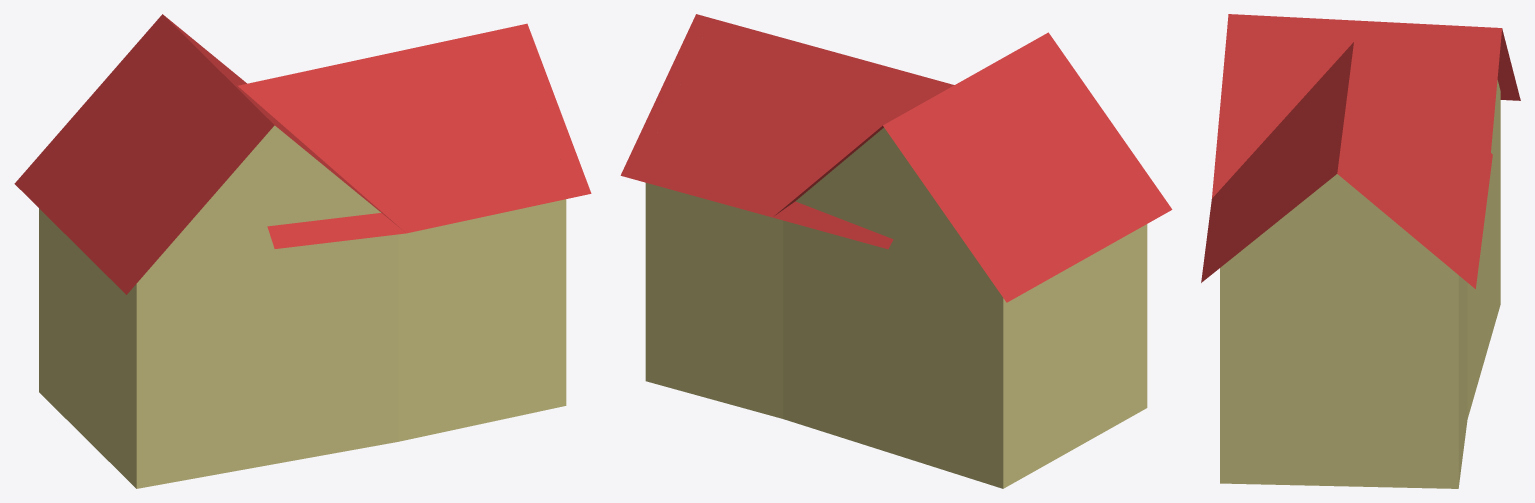
3 views of the same model, side by side, from view 1: azimuth 30°, elevation 25°; view 2: azimuth 150°, elevation 25°; view 3: azimuth 270°, elevation 25° (orthographic). The views are drawn at different scales.
Size of the model in its own units: 20.93 by 13.25 by 15.3.
